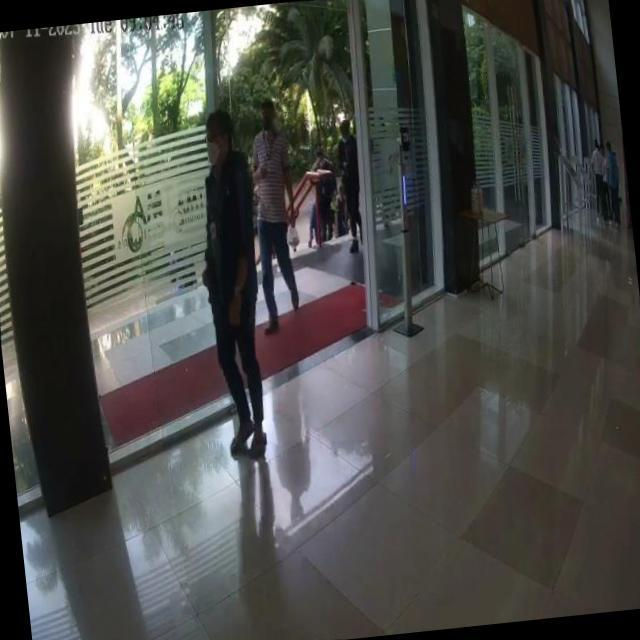person: (178, 107, 290, 464), (240, 96, 318, 340), (327, 116, 370, 255)
